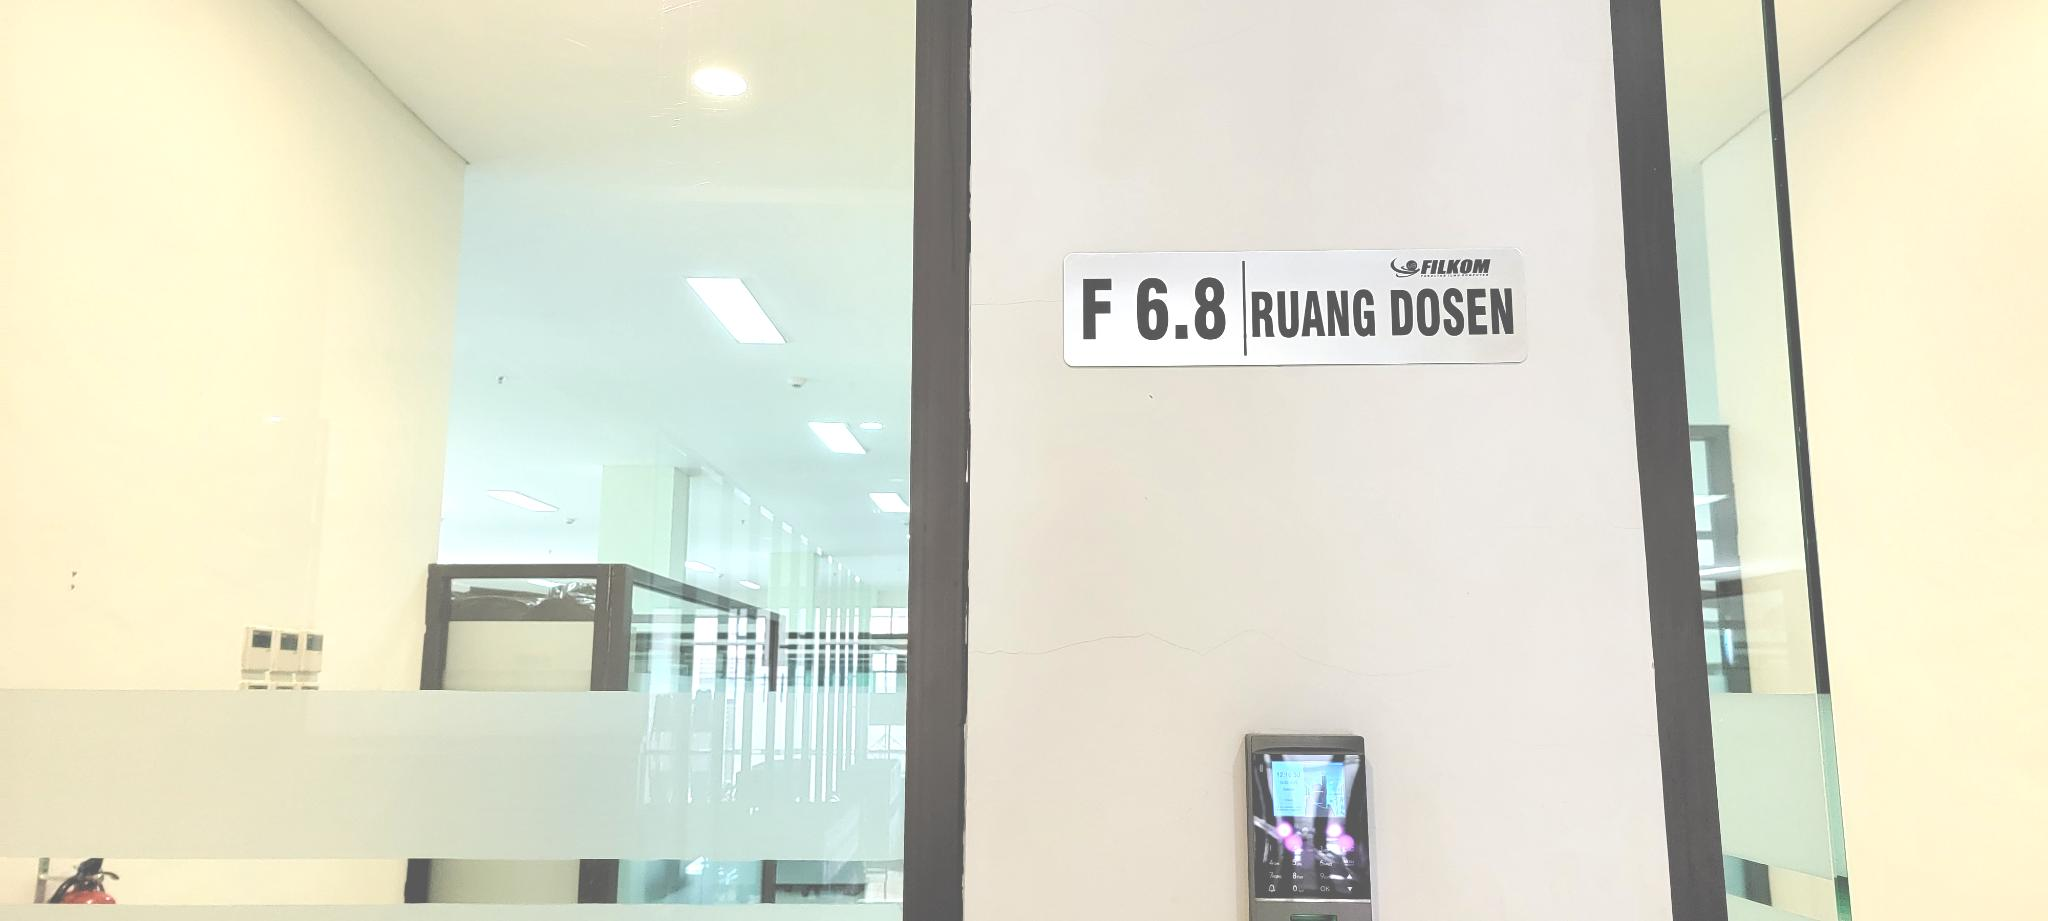plate: (1061, 248, 1528, 368)
